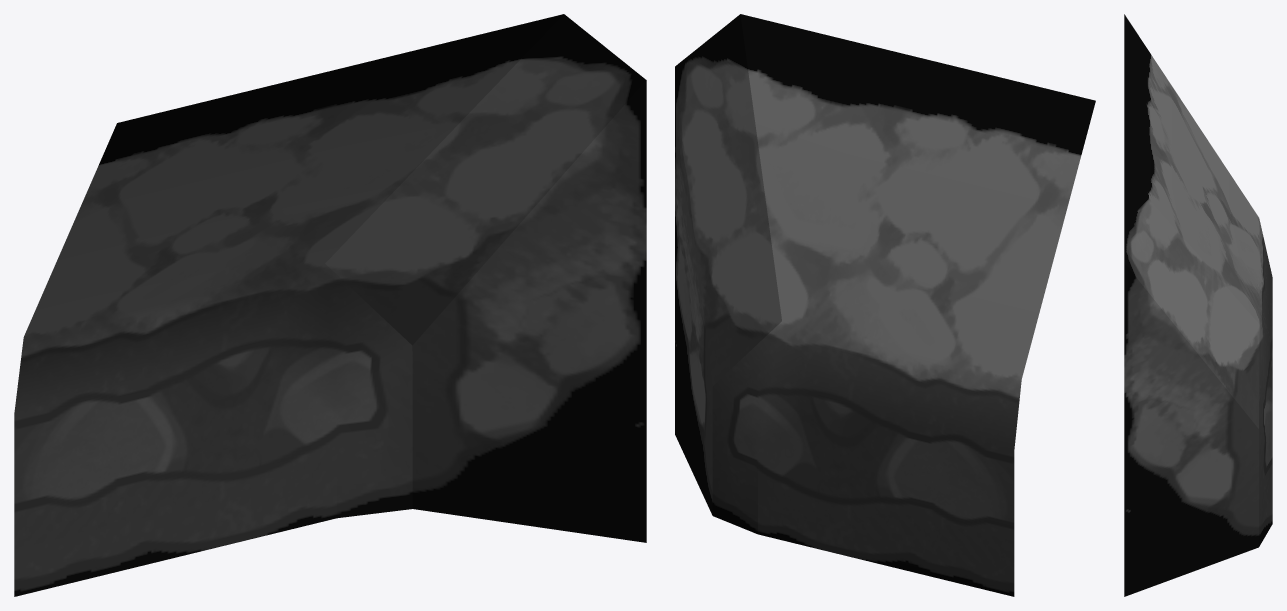
Rendered from Tile2.fbx.
3 views of the same model, side by side, from view 1: azimuth 30°, elevation 25°; view 2: azimuth 150°, elevation 25°; view 3: azimuth 270°, elevation 25° (orthographic). The views are drawn at different scales.
Parts seen in each view (by area): view 1: polySurface4; view 2: polySurface4; view 3: polySurface4.
Part boxes in pixels (x1,y1,x2,y2): polySurface4: [14, 14, 646, 596]; polySurface4: [675, 14, 1095, 596]; polySurface4: [1124, 14, 1272, 596].
Bounding box in the file's own units: 1.99 × 1.97 × 0.6688.
1 material, 1 textured.
